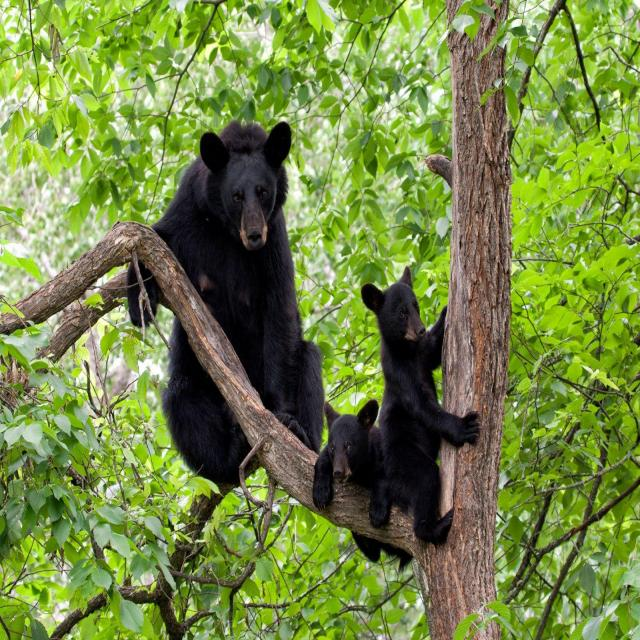Bear: (150, 122, 329, 454), (361, 268, 480, 546), (312, 400, 385, 524)
